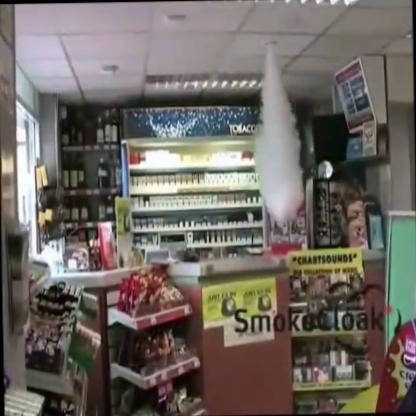smoke: (258, 43, 318, 224)
